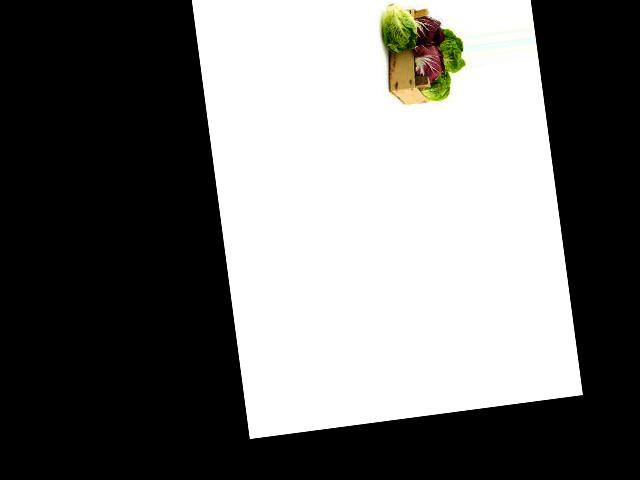lettuce: (365, 14, 474, 131)
